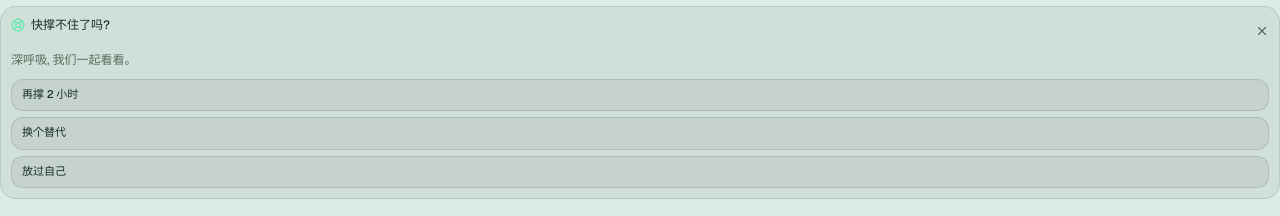
Test case: ActiveGuardsSos 降温对话 › 防连点: 已选后再点零追加 POST
Click the button "再撑 2 小时": [50, 94] box [11, 78, 1269, 111]
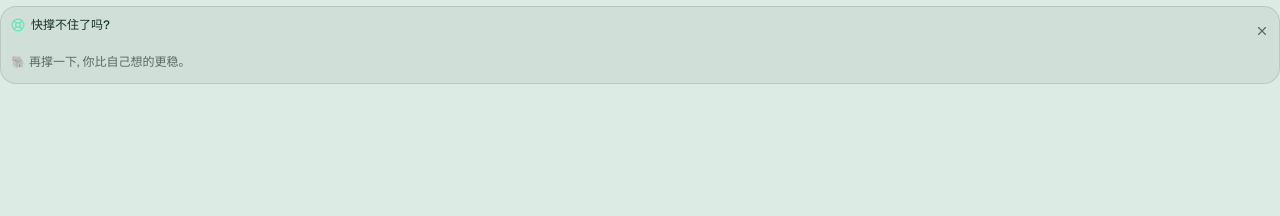
Now the button "放过自己" is gone
